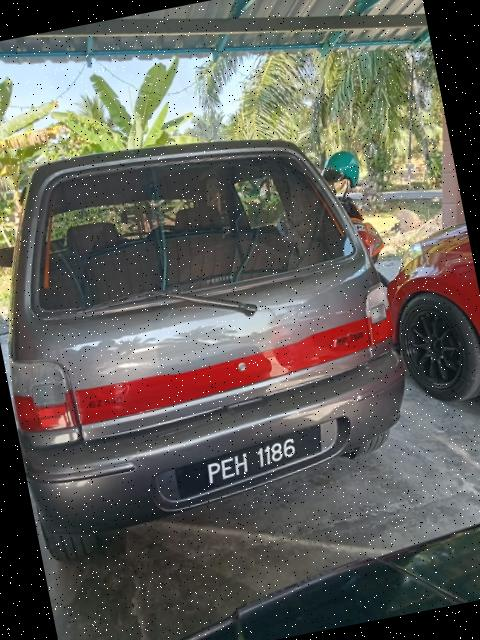License_Plate: (173, 431, 332, 494)
car: (1, 96, 427, 567)
